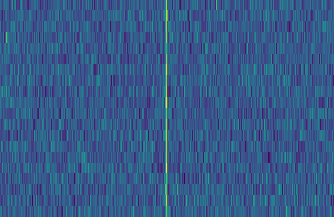signal: (160, 0, 169, 217)
